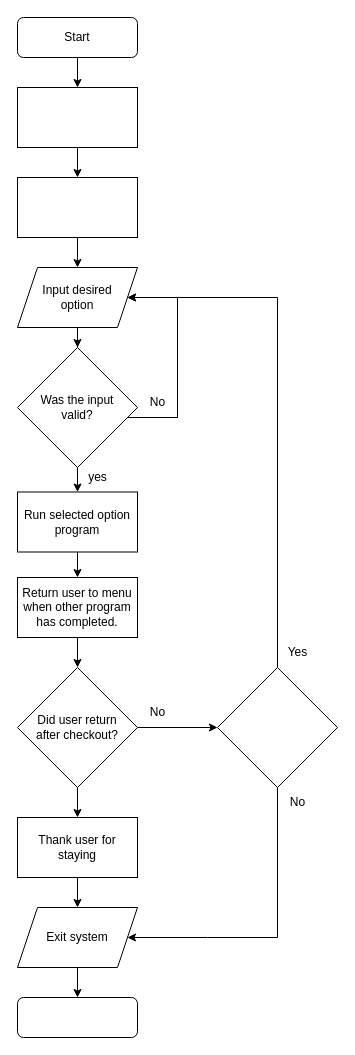
Some shapes in this 355 by 1055 pixel diagram are drawn without their labels. The shapes that lost their labels are listed below. From the top down, each one's centre as x and y in pixels, then its label:
[77,117]: Welcome user to the program
[77,207]: Display menu options
[277,727]: Return to menu?
[77,1017]: End
